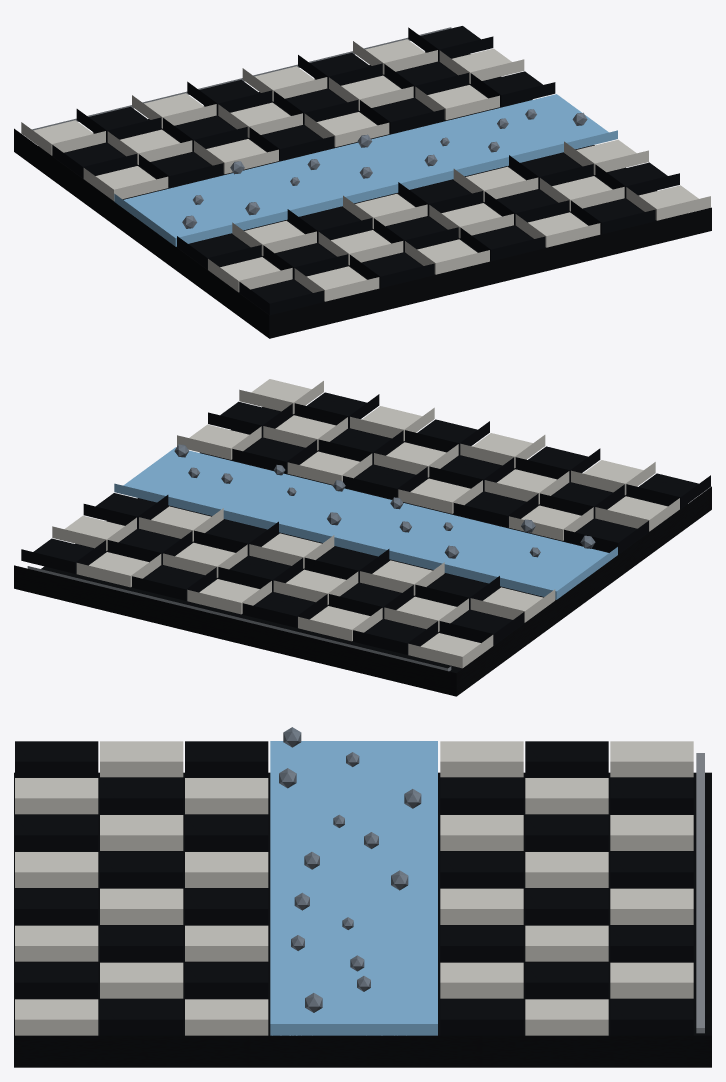
File: v2_deck.glb
3 views of the same model, one above another, from view 1: azimuth 30°, elevation 25°; view 2: azimuth 150°, elevation 25°; view 3: azimuth 270°, elevation 25° (orthographic). The views are drawn at different scales.
Parts seen in each view (by area): view 1: Pavers_B, Pavers_A, River_Inlay, Deck_Slab, River_Pebbles, Deck_Drain; view 2: Pavers_B, Pavers_A, River_Inlay, Deck_Slab, River_Pebbles, Deck_Drain; view 3: Pavers_A, Pavers_B, River_Inlay, Deck_Slab, River_Pebbles, Deck_Drain.
Boxes of the visible parts, box(x1,y1,x2,y2) form: Pavers_B: box(52, 26, 679, 314); Pavers_A: box(21, 39, 710, 301); River_Inlay: box(114, 94, 617, 246); Deck_Slab: box(14, 51, 711, 338); River_Pebbles: box(182, 109, 587, 228); Deck_Drain: box(32, 27, 451, 130); Pavers_B: box(21, 392, 710, 654); Pavers_A: box(52, 379, 679, 668); River_Inlay: box(114, 447, 617, 599); Deck_Slab: box(14, 407, 711, 696); River_Pebbles: box(174, 444, 595, 558); Deck_Drain: box(27, 566, 451, 671); Pavers_A: box(15, 741, 693, 1035); Pavers_B: box(15, 741, 693, 1035); River_Inlay: box(270, 741, 437, 1035); Deck_Slab: box(14, 772, 711, 1067); River_Pebbles: box(279, 727, 421, 1012); Deck_Drain: box(696, 753, 704, 1033).
Size of what is drawn, in the model's own units: 4 by 0.3664 by 4.
6 materials, 3 textured.
